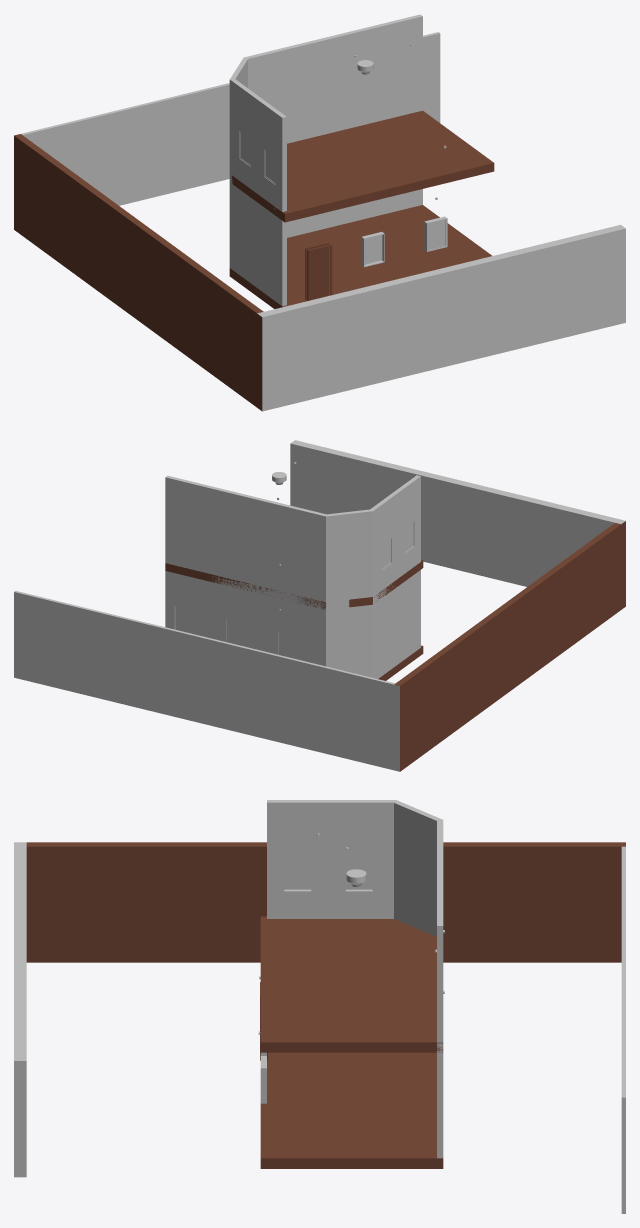
File: house1.obj
3 renders of one model, top to bottom at view 1: azimuth 30°, elevation 25°; view 2: azimuth 150°, elevation 25°; view 3: azimuth 270°, elevation 25°, orthographic. The views are drawn at different scales.
Visible parts, largest first — view 1: _905648960_1246.002, _-__905648960_1250.001, _905648960_25.001, _-__905648960_1257.001, _905648960_27.001, _-__905648960_1319.001, _905648960_1324.001, _-__905648960_3865.001; view 2: _905648960_1246.002, _905648960_25.001, _-__905648960_1250.001, _-__905648960_1257.001, _905648960_27.001, _905648960_1324.001; view 3: _-__905648960_1250.001, _905648960_25.001, _905648960_1246.002, _-__905648960_1257.001, _905648960_27.001, _905648960_1324.001.
Boxes of the visible parts, x1,y1,x2,y2 form: _905648960_1246.002: (21, 32, 625, 411); _-__905648960_1250.001: (14, 110, 493, 410); _905648960_25.001: (229, 14, 422, 306); _-__905648960_1257.001: (229, 163, 494, 308); _905648960_27.001: (240, 133, 445, 263); _-__905648960_1319.001: (307, 245, 328, 300); _905648960_1324.001: (239, 130, 447, 267); _-__905648960_3865.001: (305, 242, 332, 300); _905648960_1246.002: (14, 440, 625, 771); _905648960_25.001: (165, 475, 420, 678); _-__905648960_1250.001: (394, 521, 625, 771); _-__905648960_1257.001: (165, 560, 423, 680); _905648960_27.001: (175, 523, 413, 658); _905648960_1324.001: (173, 521, 414, 659); _-__905648960_1250.001: (26, 842, 625, 1158); _905648960_25.001: (267, 800, 443, 1158); _905648960_1246.002: (14, 842, 625, 1213); _-__905648960_1257.001: (260, 1042, 443, 1168); _905648960_27.001: (285, 858, 371, 888); _905648960_1324.001: (260, 857, 373, 1103).
Bounding box in the file's own units: 18.85 × 8.92 × 19.1.
